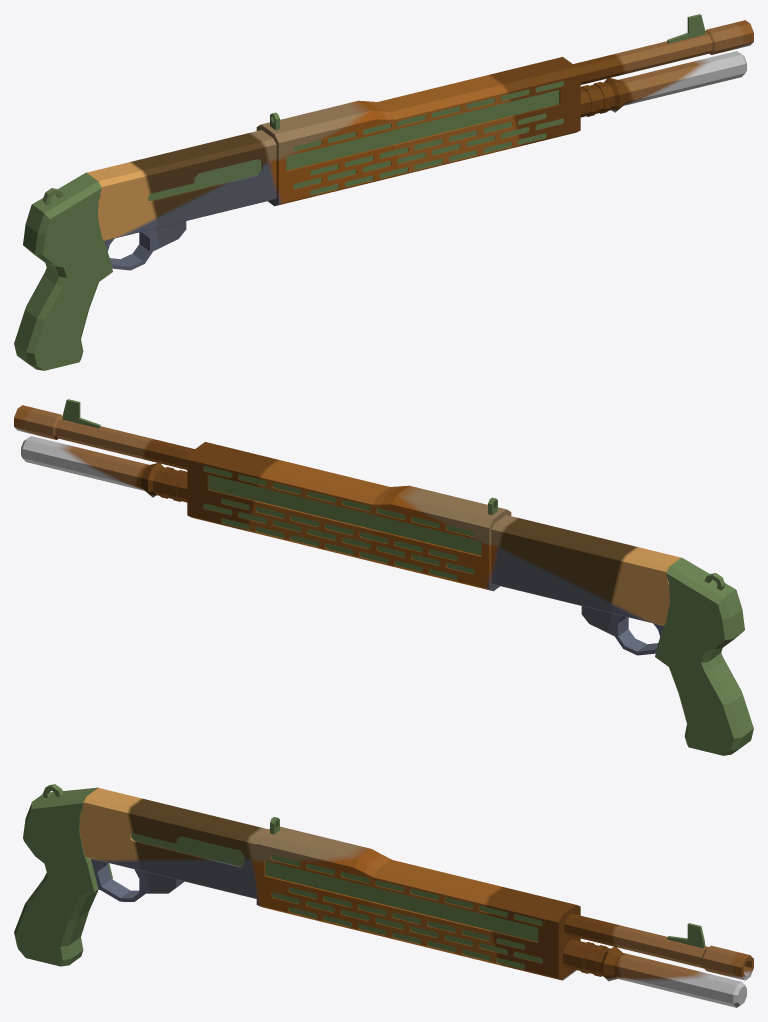
The model's file is Shotgun5_05.fbx.
3 renders of one model, top to bottom at view 1: azimuth 30°, elevation 25°; view 2: azimuth 150°, elevation 25°; view 3: azimuth 330°, elevation 25°, orthographic.
Visible parts, largest first — view 1: Shotgun5_05; view 2: Shotgun5_05; view 3: Shotgun5_05.
Part boxes in pixels (x1,y1,x2,y2): Shotgun5_05: (14,14,753,370); Shotgun5_05: (14,399,753,755); Shotgun5_05: (14,784,753,1007).
Size of the model in its own units: 0.8358 by 0.2102 by 0.0437.
